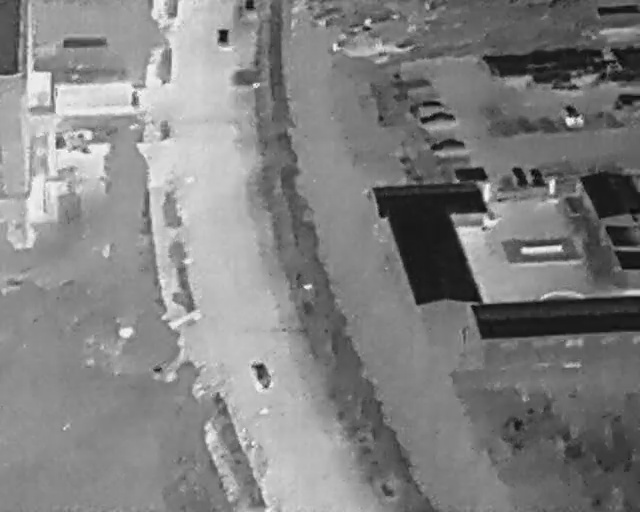Car: (250, 358, 275, 392), (561, 100, 584, 128), (431, 138, 464, 152), (421, 112, 456, 125), (511, 164, 529, 188), (215, 27, 230, 49), (529, 165, 544, 186), (415, 100, 445, 109)
